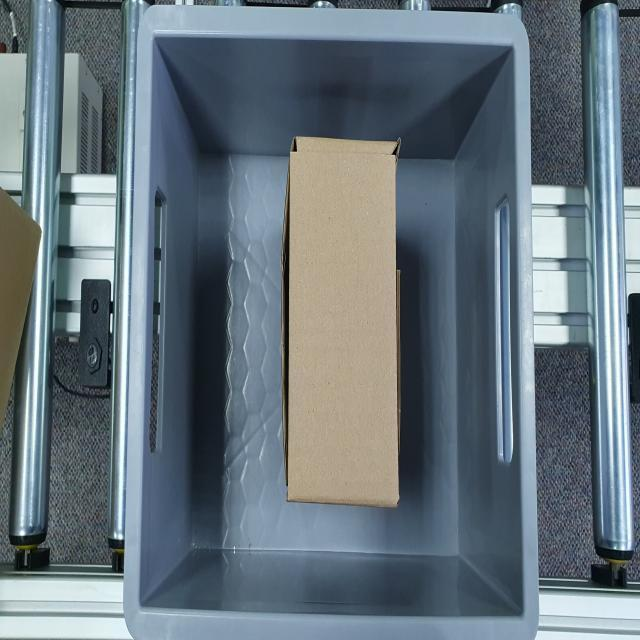box: (288, 134, 405, 511)
